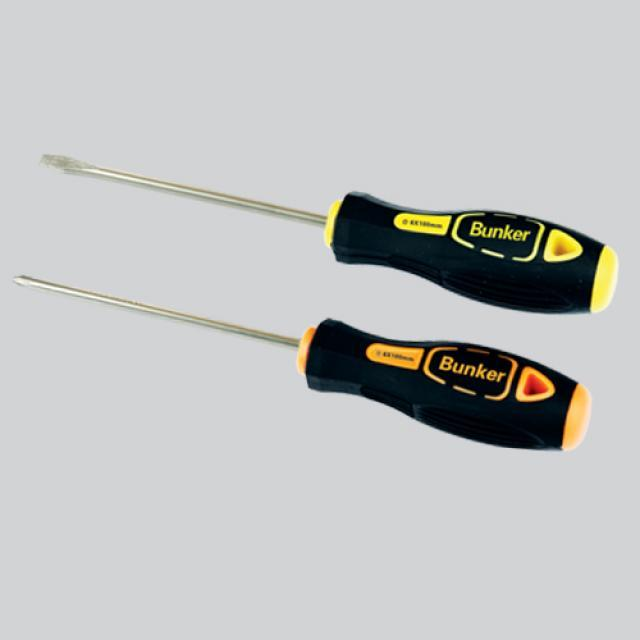screwdriver: (0, 252, 630, 510), (33, 128, 630, 328)
